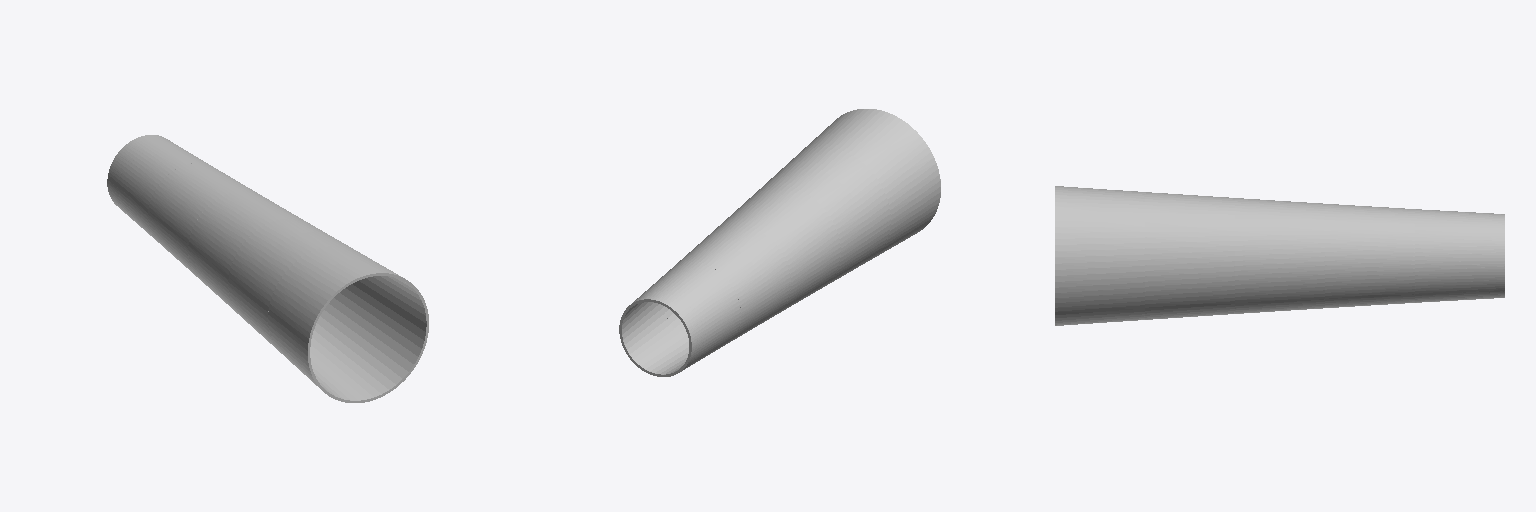
The model's file is Wind sock.obj.
3 renders of one model, left to right at view 1: azimuth 30°, elevation 25°; view 2: azimuth 150°, elevation 25°; view 3: azimuth 270°, elevation 25°, orthographic.
Visible parts, largest first — view 1: Root|wind_sock_assem_(Default)|Default|wind_sock_element_1-1|col, Root|wind_sock_assem_(Default)|Default|wind_sock_element_2-1|col, Root|wind_sock_assem_(Default)|Default|wind_sock_element_3-1|col, Root|wind_sock_assem_(Default)|Default|wind_sock_element_4-1|col, Root|wind_sock_assem_(Default)|Default|wind_sock_element_5-1|col; view 2: Root|wind_sock_assem_(Default)|Default|wind_sock_element_5-1|col, Root|wind_sock_assem_(Default)|Default|wind_sock_element_1-1|col, Root|wind_sock_assem_(Default)|Default|wind_sock_element_2-1|col, Root|wind_sock_assem_(Default)|Default|wind_sock_element_3-1|col, Root|wind_sock_assem_(Default)|Default|wind_sock_element_4-1|col; view 3: Root|wind_sock_assem_(Default)|Default|wind_sock_element_1-1|col, Root|wind_sock_assem_(Default)|Default|wind_sock_element_2-1|col, Root|wind_sock_assem_(Default)|Default|wind_sock_element_3-1|col, Root|wind_sock_assem_(Default)|Default|wind_sock_element_4-1|col, Root|wind_sock_assem_(Default)|Default|wind_sock_element_5-1|col.
Part boxes in pixels (x1,y1,x2,y2): Root|wind_sock_assem_(Default)|Default|wind_sock_element_1-1|col: (268, 246, 428, 402); Root|wind_sock_assem_(Default)|Default|wind_sock_element_2-1|col: (228, 218, 376, 362); Root|wind_sock_assem_(Default)|Default|wind_sock_element_3-1|col: (188, 191, 305, 313); Root|wind_sock_assem_(Default)|Default|wind_sock_element_4-1|col: (148, 163, 256, 276); Root|wind_sock_assem_(Default)|Default|wind_sock_element_5-1|col: (107, 135, 208, 239); Root|wind_sock_assem_(Default)|Default|wind_sock_element_5-1|col: (619, 262, 740, 376); Root|wind_sock_assem_(Default)|Default|wind_sock_element_1-1|col: (799, 109, 940, 257); Root|wind_sock_assem_(Default)|Default|wind_sock_element_2-1|col: (757, 147, 890, 285); Root|wind_sock_assem_(Default)|Default|wind_sock_element_3-1|col: (715, 186, 840, 313); Root|wind_sock_assem_(Default)|Default|wind_sock_element_4-1|col: (663, 224, 790, 342); Root|wind_sock_assem_(Default)|Default|wind_sock_element_1-1|col: (1055, 186, 1144, 325); Root|wind_sock_assem_(Default)|Default|wind_sock_element_2-1|col: (1145, 192, 1234, 319); Root|wind_sock_assem_(Default)|Default|wind_sock_element_3-1|col: (1235, 198, 1324, 313); Root|wind_sock_assem_(Default)|Default|wind_sock_element_4-1|col: (1325, 204, 1414, 307); Root|wind_sock_assem_(Default)|Default|wind_sock_element_5-1|col: (1415, 209, 1504, 302).
Bounding box in the file's own units: 0.2493 × 0.2494 × 0.8.